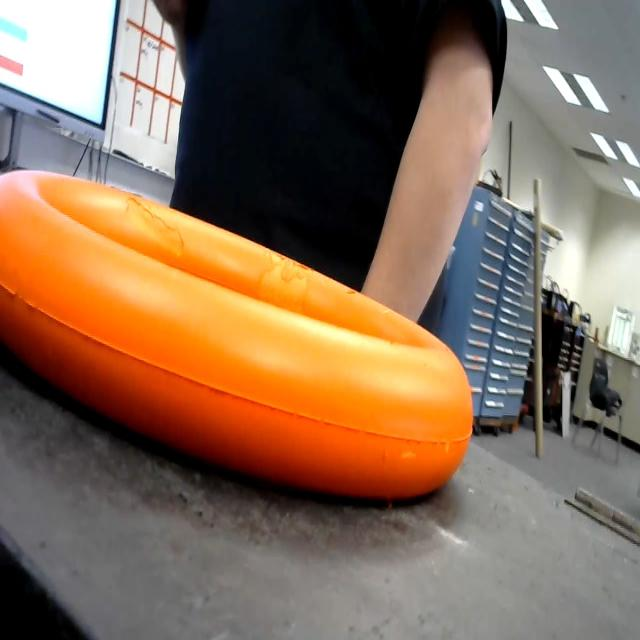note: (0, 145, 474, 540)
